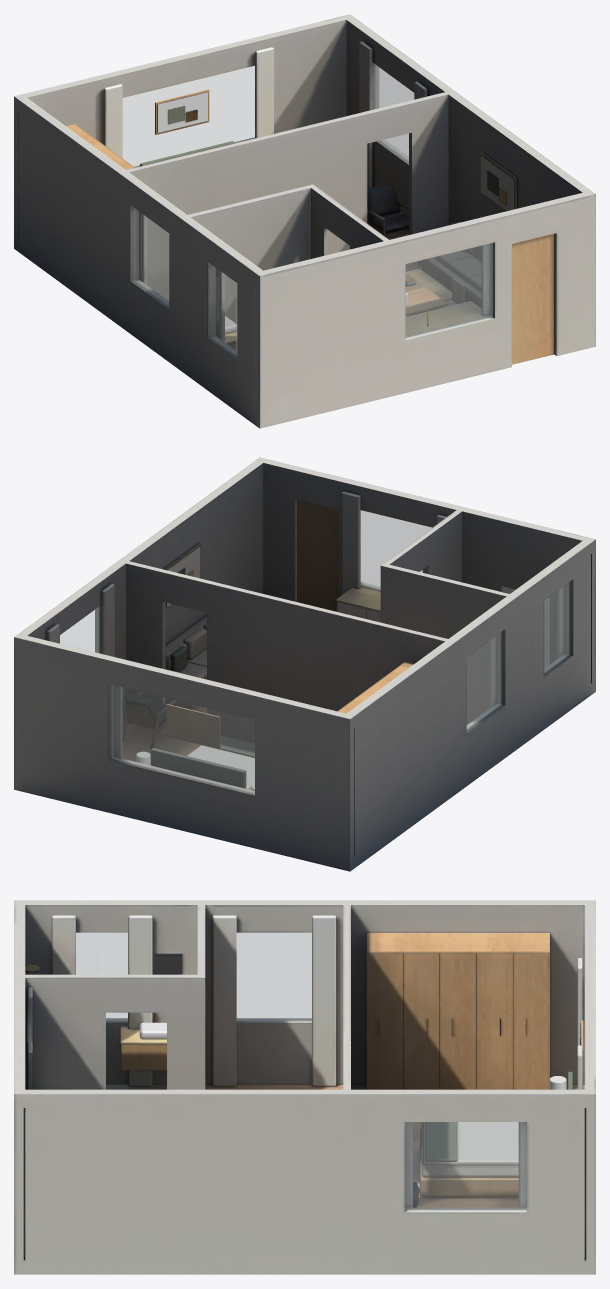
Rendered from encenillo.glb.
The picture shows the model from 3 angles, top to bottom: view 1: azimuth 30°, elevation 25°; view 2: azimuth 150°, elevation 25°; view 3: azimuth 270°, elevation 25°; orthographic projection. The views are drawn at different scales.
Visible parts, largest first — view 1: horneado, Cube.058; view 2: horneado, Cube.058; view 3: horneado, Cube.058.
Part boxes in pixels (<box>): horneado: <box>14,14,595,428</box>; Cube.058: <box>123,64,492,354</box>; horneado: <box>14,457,595,871</box>; Cube.058: <box>60,510,569,793</box>; horneado: <box>14,900,595,1274</box>; Cube.058: <box>76,933,526,1209</box>.
Size of the model in its own units: 6 by 2.6 by 7.6.
Materials: 4 (3 with a texture image).
